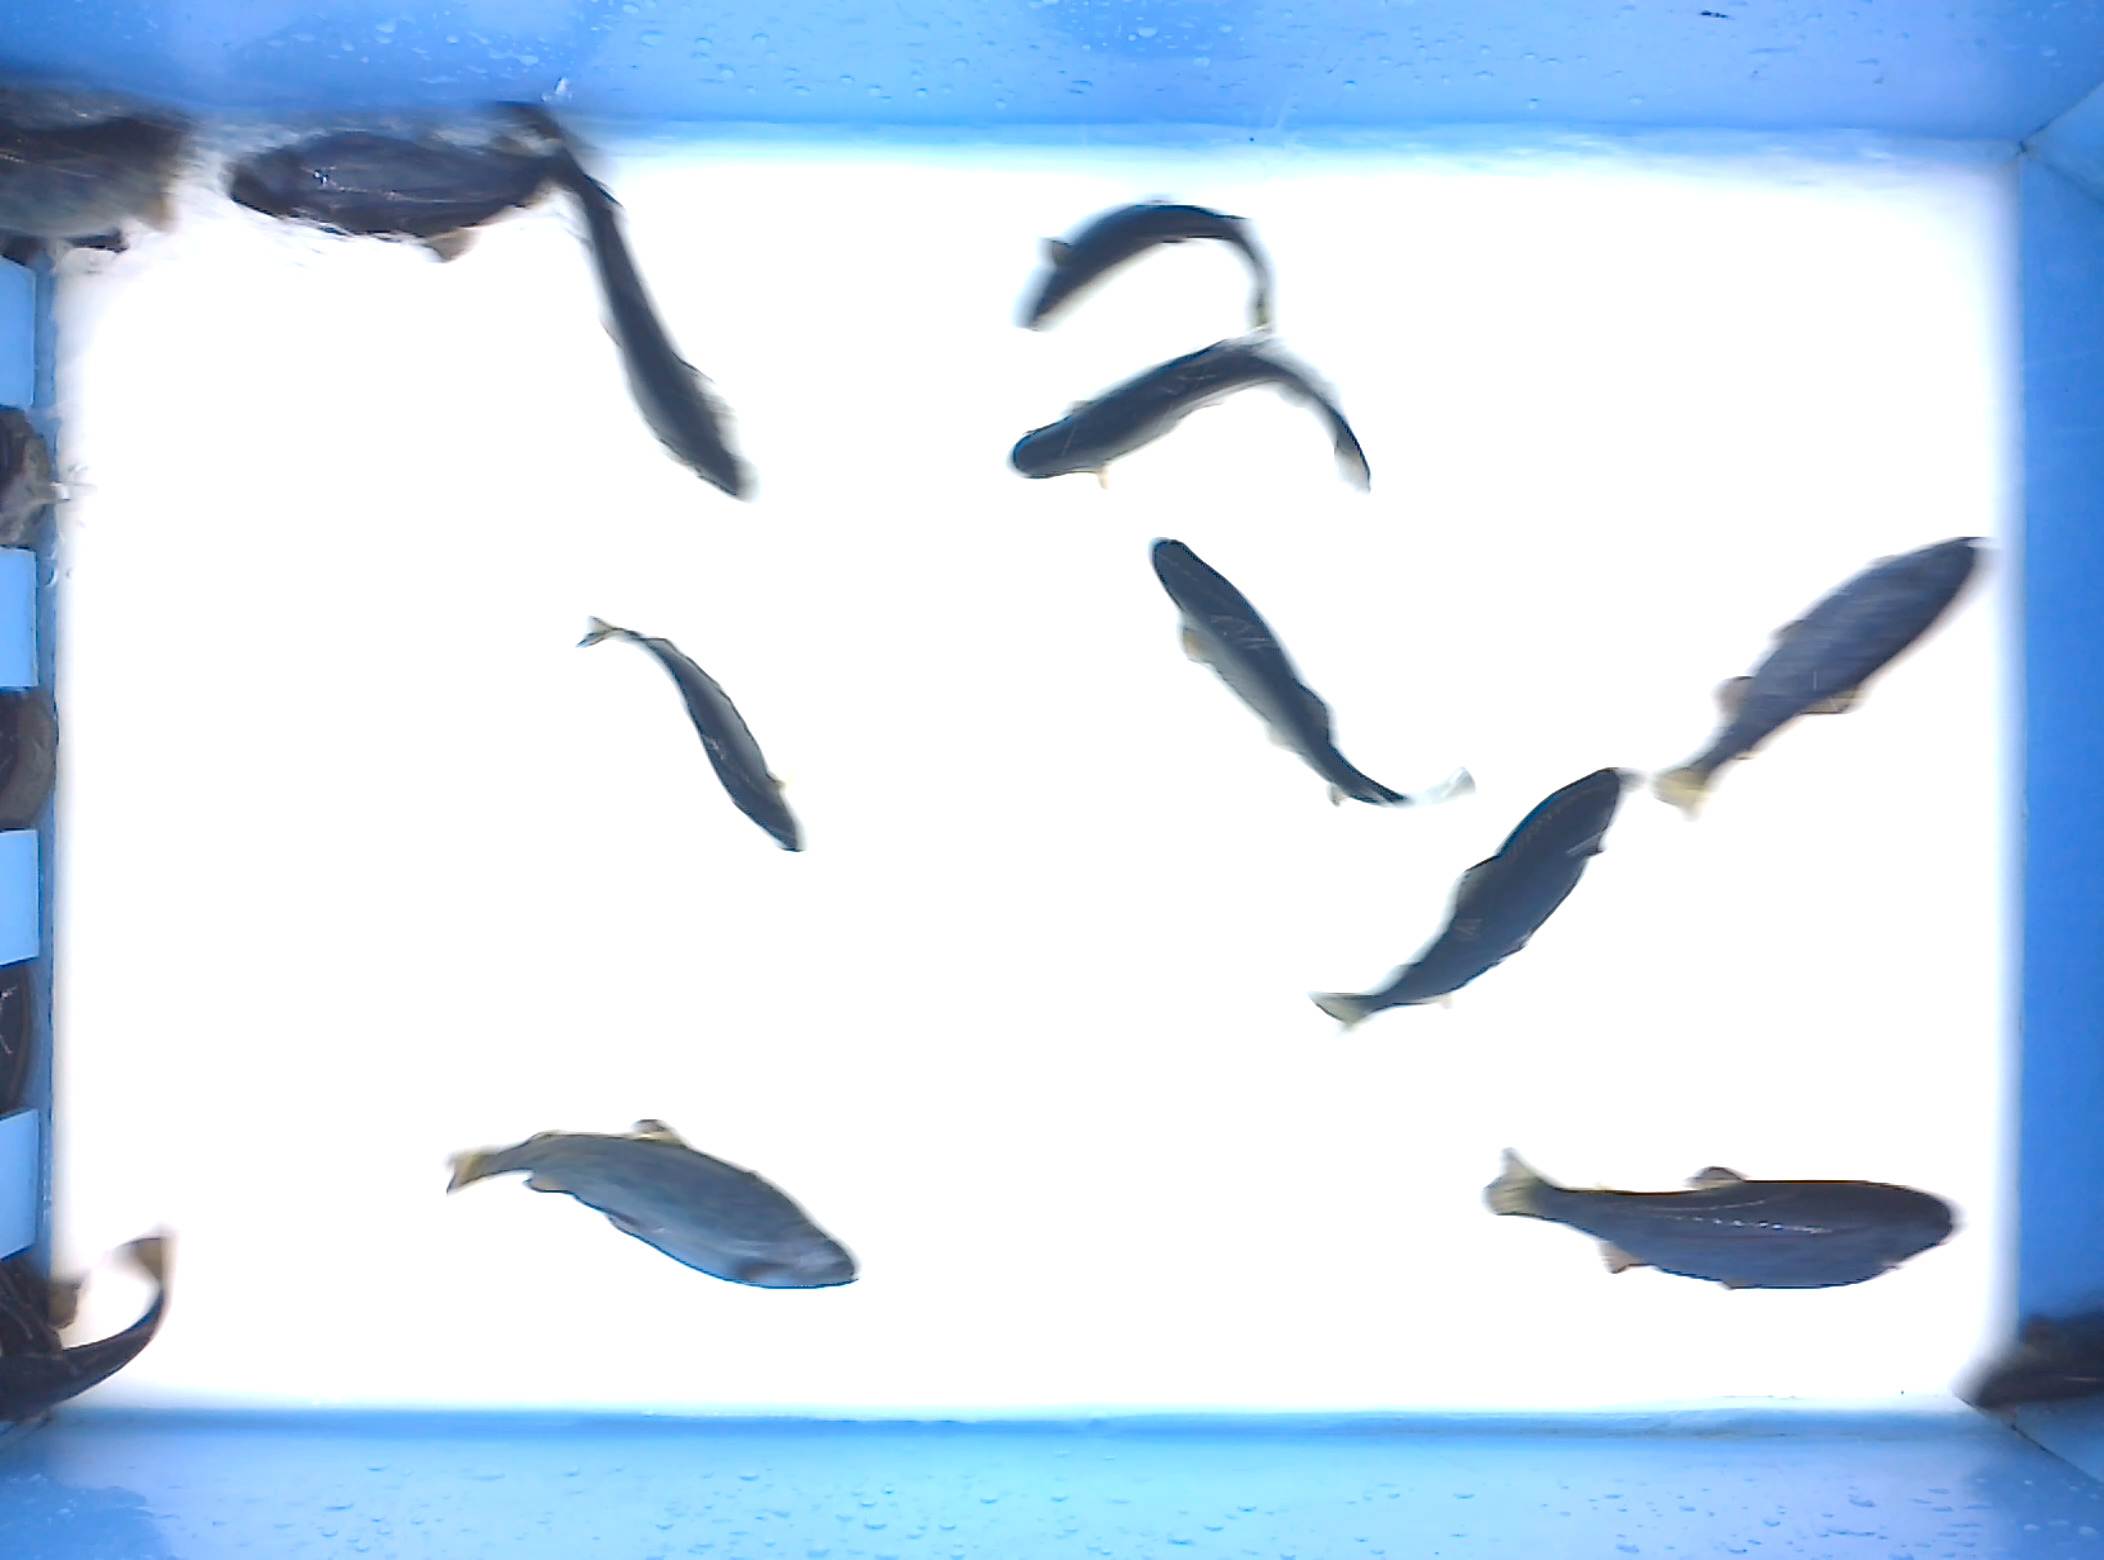fish: (465, 92, 764, 511), (1652, 529, 2007, 824), (1303, 755, 1647, 1037), (1144, 533, 1481, 814), (438, 1114, 864, 1301), (1006, 329, 1375, 500), (577, 611, 811, 859), (220, 125, 588, 267), (1009, 197, 1280, 338)
